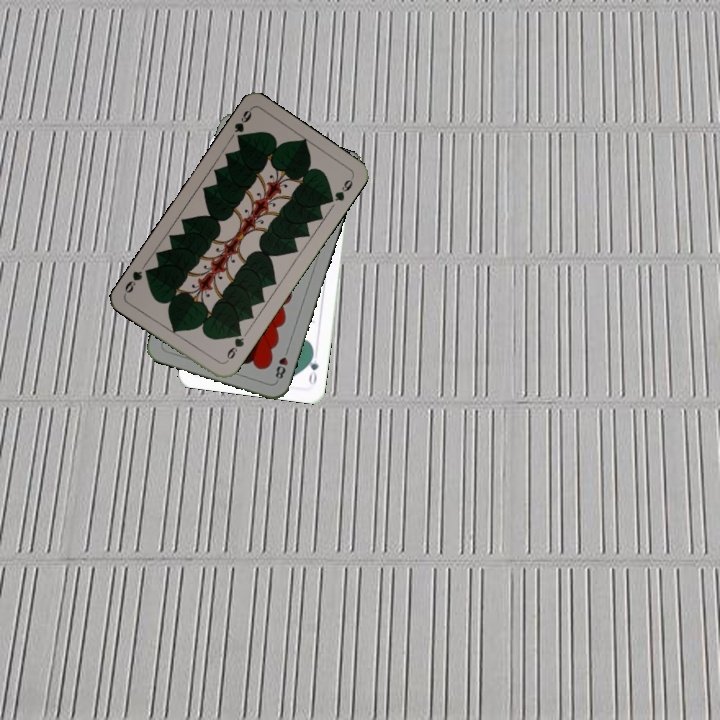G9: (221, 326, 247, 365), (230, 105, 254, 145)
GO: (304, 347, 321, 387)
H8: (271, 344, 291, 384)
